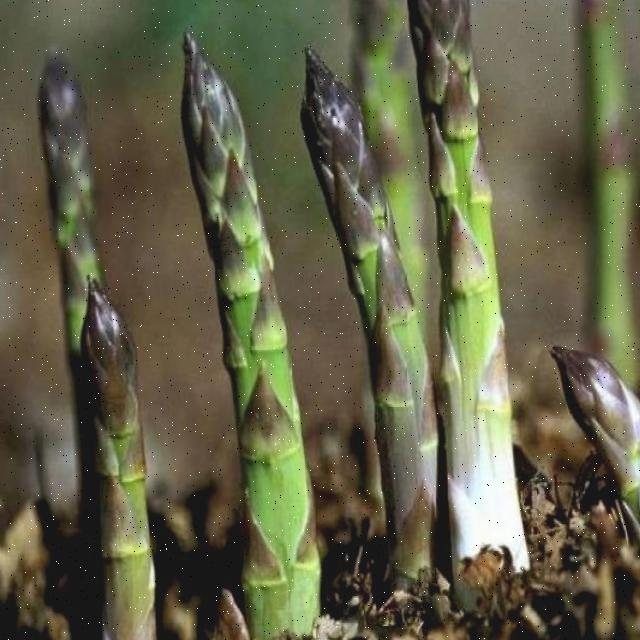aspargus: (179, 34, 318, 640)
